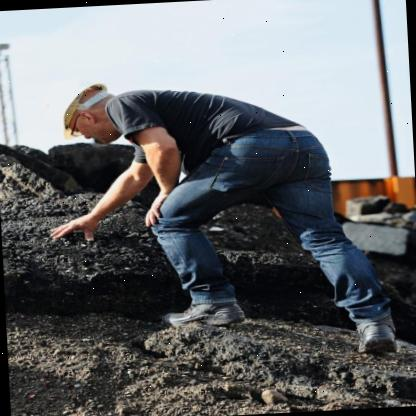bota: (160, 295, 248, 331), (350, 310, 400, 357)
